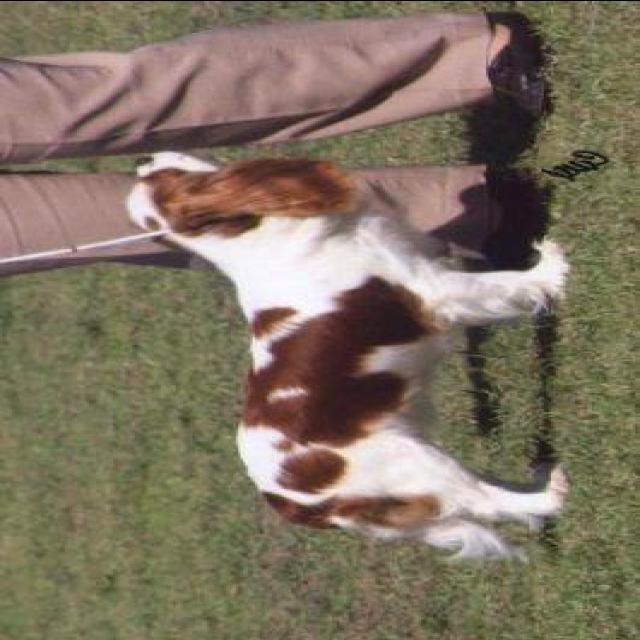blenheim_spaniel: (125, 148, 575, 562)
